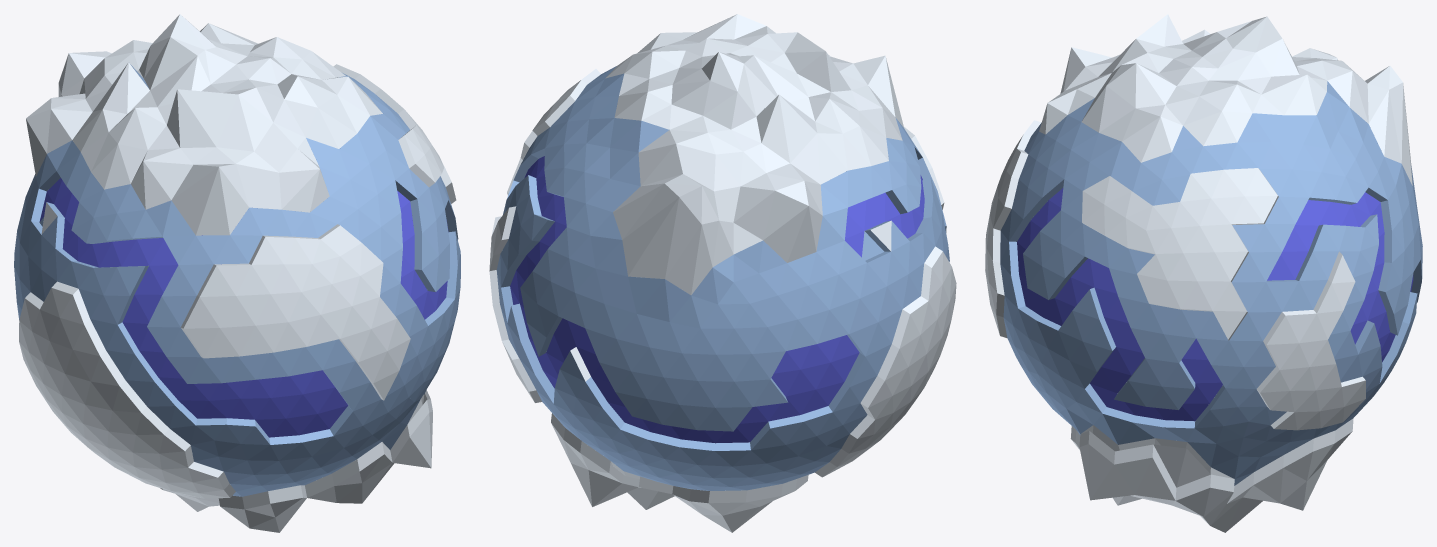
File: planet-4.glb
The picture shows the model from 3 angles, left to right: view 1: azimuth 30°, elevation 25°; view 2: azimuth 150°, elevation 25°; view 3: azimuth 270°, elevation 25°; orthographic projection. The views are drawn at different scales.
Visible parts, largest first — view 1: Planet.02_Snow.002_0, Planet.02_Ice_0, Planet.02_Material.004_0; view 2: Planet.02_Ice_0, Planet.02_Snow.002_0, Planet.02_Material.004_0; view 3: Planet.02_Ice_0, Planet.02_Snow.002_0, Planet.02_Material.004_0.
Part boxes in pixels (x1,y1,x2,y2): Planet.02_Snow.002_0: [19, 14, 456, 532]; Planet.02_Ice_0: [14, 64, 460, 496]; Planet.02_Material.004_0: [39, 178, 448, 437]; Planet.02_Ice_0: [496, 66, 949, 490]; Planet.02_Snow.002_0: [489, 14, 956, 532]; Planet.02_Material.004_0: [510, 156, 924, 443]; Planet.02_Ice_0: [1000, 81, 1422, 485]; Planet.02_Snow.002_0: [985, 14, 1412, 532]; Planet.02_Material.004_0: [1017, 188, 1413, 421].
Size of the model in its own units: 1.66 by 1.95 by 1.64.
